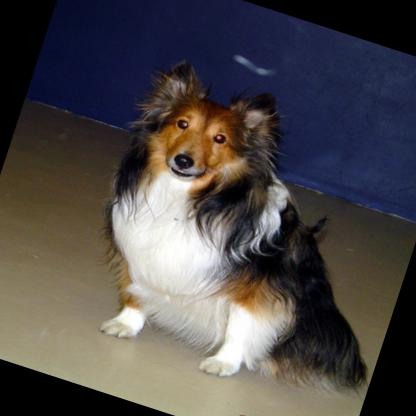Shetland_sheepdog: (60, 49, 416, 416)
